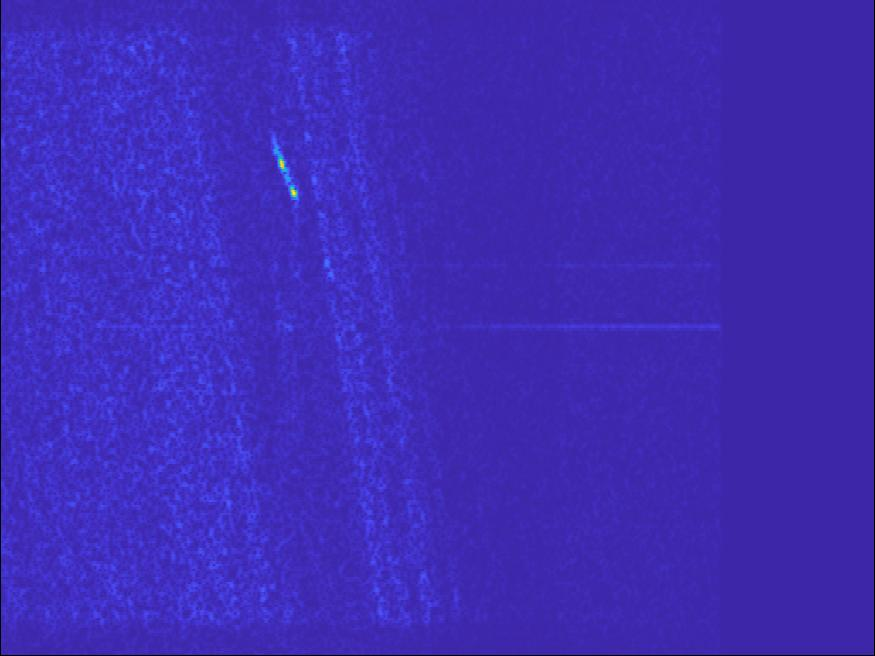Interference: (656, 364, 857, 554), (234, 291, 463, 372), (363, 548, 486, 597), (91, 17, 204, 62)
